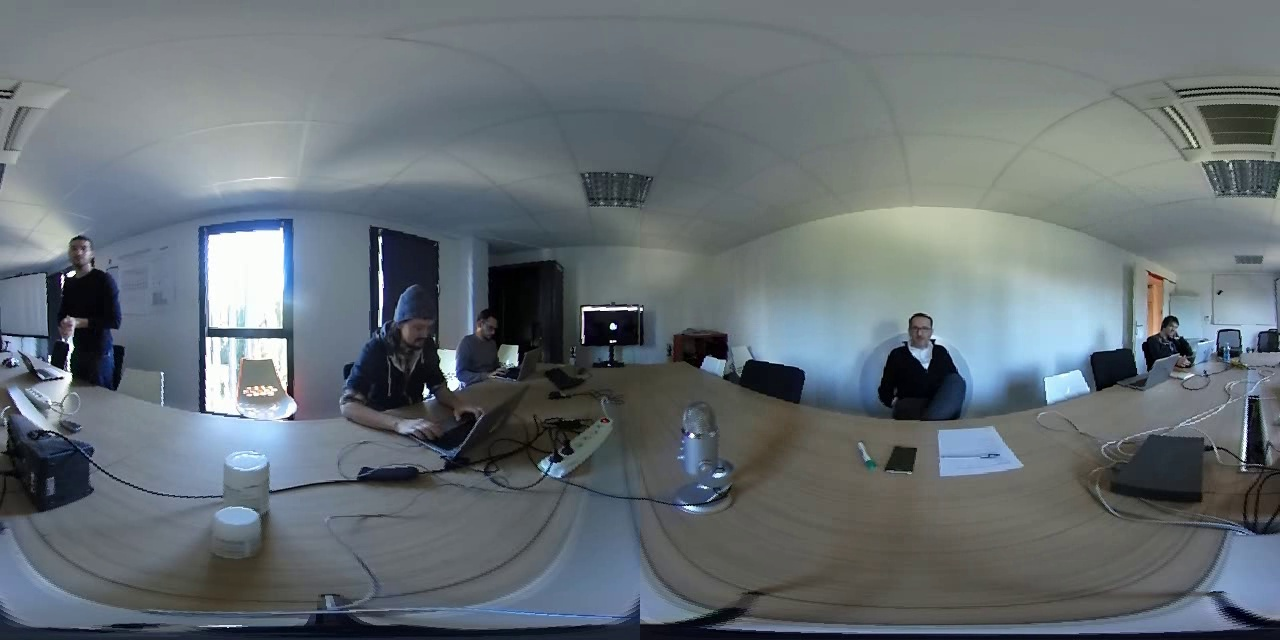person: (340, 276, 443, 418), (50, 225, 138, 371), (871, 304, 974, 416), (455, 301, 511, 380), (1143, 307, 1194, 362)
